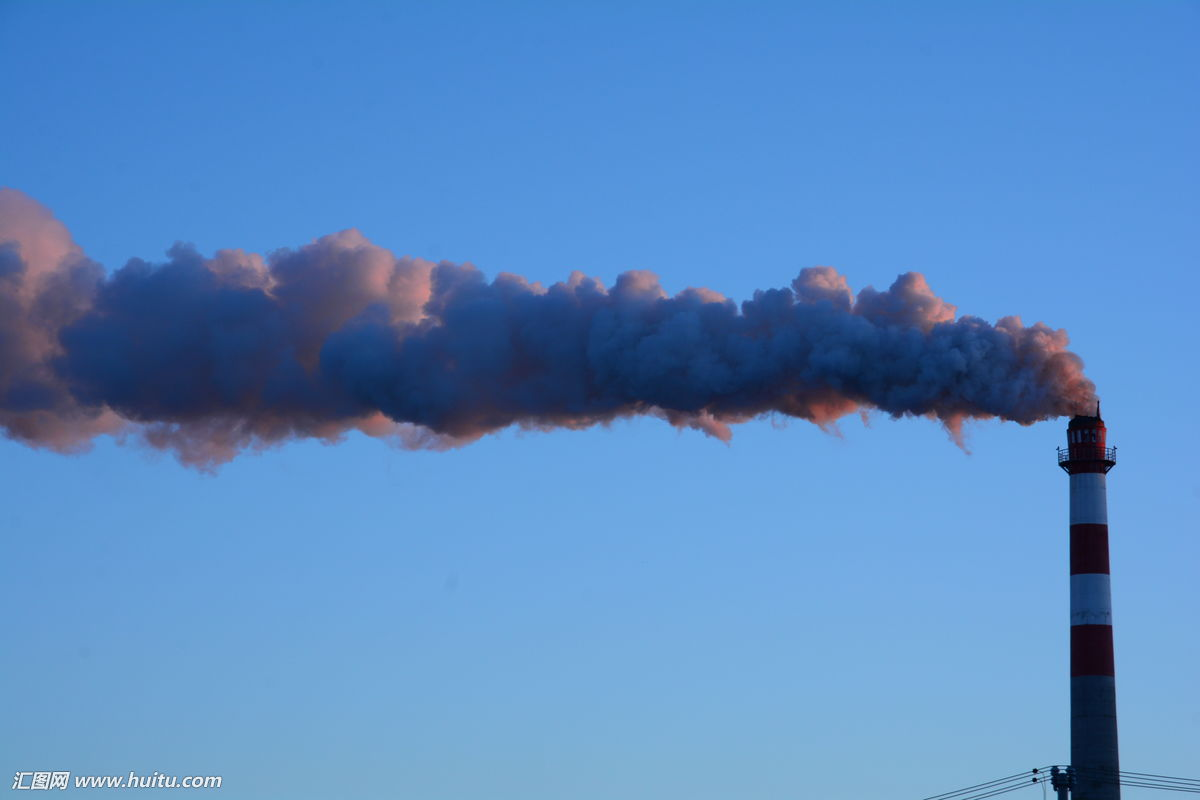dust: (553, 273, 1122, 442)
